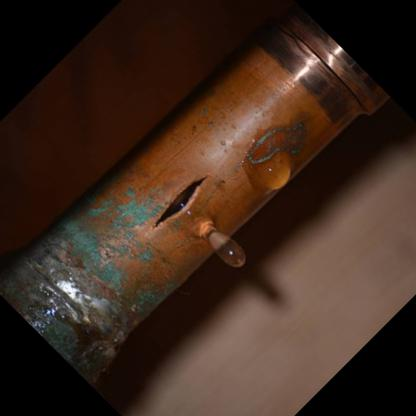burst: (143, 157, 224, 241)
